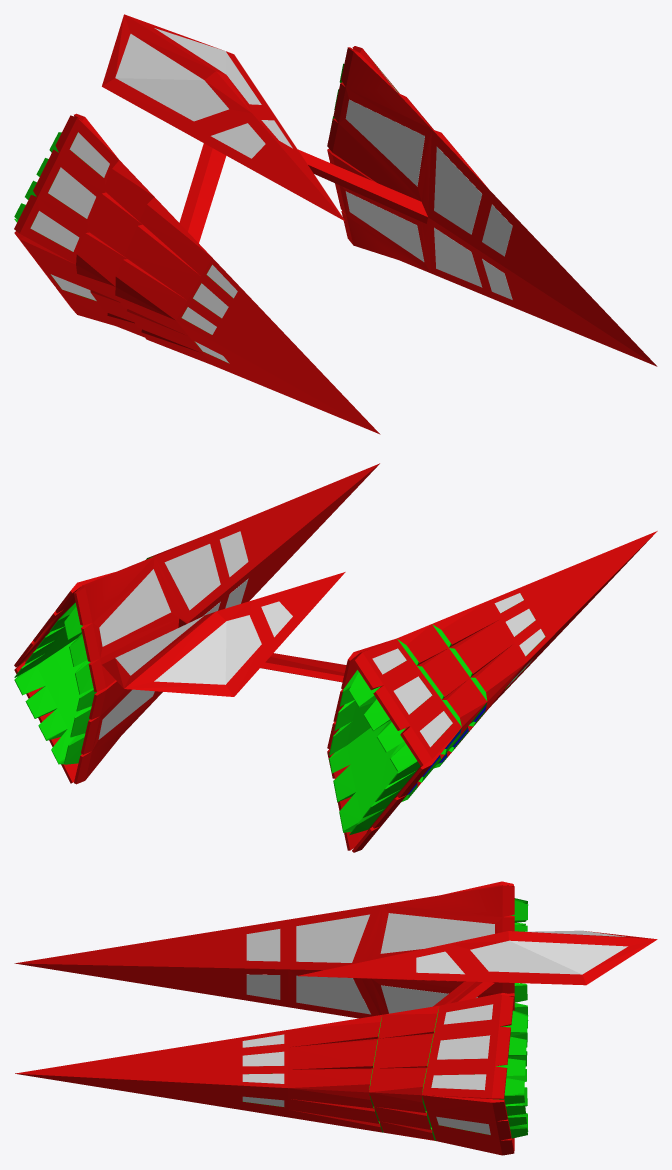
File: SM_vaisseau_WIP-00-00-01.FBX
3 renders of one model, top to bottom at view 1: azimuth 30°, elevation 25°; view 2: azimuth 150°, elevation 25°; view 3: azimuth 270°, elevation 25°, orthographic. The views are drawn at different scales.
Visible parts, largest first — view 1: pod3_variante010, aileron005, ail11.2, ail10.2, ail14.2, ail13.2, aileron03.003, ail07, aileron006, ail09.2, ail06, ail08; view 2: pod3_variante010, aileron005, ail11.2, ail10.2, aileron03.003, ail14.2, ail09.2, ail07, aileron006, ail06; view 3: pod3_variante010, aileron03.003, ail11, ail10, ail13, ail14, ail07.2, ail09, ail12, ail06.2, aileron04.003, ail08.2 (+3 smaller).
Boxes of the visible parts, <box> form: pod3_variante010: <box>14,14,657,434</box>; aileron005: <box>115,34,228,121</box>; ail11.2: <box>345,99,424,186</box>; ail10.2: <box>434,146,482,234</box>; ail14.2: <box>345,191,424,261</box>; ail13.2: <box>434,227,482,287</box>; aileron03.003: <box>154,28,261,104</box>; ail07: <box>48,167,95,218</box>; aileron006: <box>211,123,265,158</box>; ail09.2: <box>482,204,512,256</box>; ail06: <box>30,211,79,251</box>; ail08: <box>69,132,109,177</box>; pod3_variante010: <box>14,463,657,852</box>; aileron005: <box>154,615,261,684</box>; ail11.2: <box>99,569,170,646</box>; ail10.2: <box>164,544,220,610</box>; aileron03.003: <box>115,616,203,675</box>; ail14.2: <box>98,689,154,739</box>; ail09.2: <box>219,531,248,577</box>; ail07: <box>393,676,432,714</box>; aileron006: <box>261,601,292,637</box>; ail06: <box>420,711,452,747</box>; pod3_variante010: <box>14,881,657,1155</box>; aileron03.003: <box>470,940,627,974</box>; ail11: <box>380,913,494,953</box>; ail10: <box>296,914,369,962</box>; ail13: <box>296,975,370,1014</box>; ail14: <box>381,985,477,1013</box>; ail07.2: <box>437,1035,490,1059</box>; ail09: <box>246,929,280,961</box>; ail12: <box>246,974,280,999</box>; ail06.2: <box>431,1074,486,1090</box>; aileron04.003: <box>416,951,464,974</box>; ail08.2: <box>444,1004,493,1024</box>.
Size of the model in its own units: 386 by 184 by 641.
